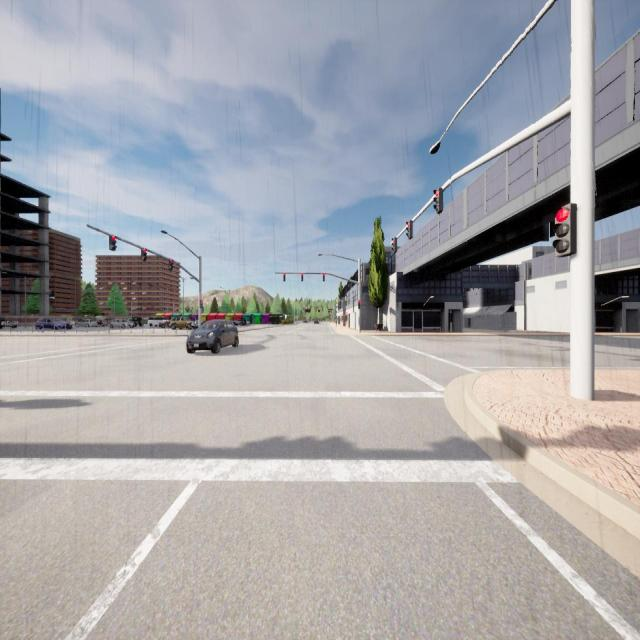Vehicle: (186, 320, 239, 354), (35, 316, 73, 330), (170, 315, 192, 330), (0, 315, 18, 329), (75, 317, 97, 328), (110, 318, 134, 328), (148, 317, 169, 327), (187, 320, 205, 330), (129, 317, 142, 327), (232, 318, 246, 325), (159, 321, 171, 329), (314, 319, 319, 325), (247, 320, 250, 325)
traffic_light: (553, 204, 577, 258), (433, 188, 443, 213), (109, 235, 117, 251), (406, 220, 412, 239), (392, 237, 397, 253), (141, 248, 147, 260), (168, 258, 174, 270), (200, 299, 203, 309), (283, 273, 286, 281), (322, 273, 325, 281), (358, 300, 360, 309), (301, 273, 303, 281)
